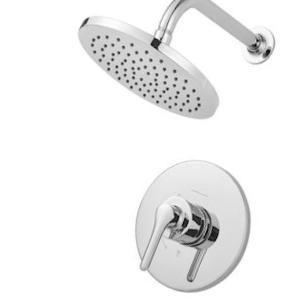Ducha: (63, 0, 291, 299)
